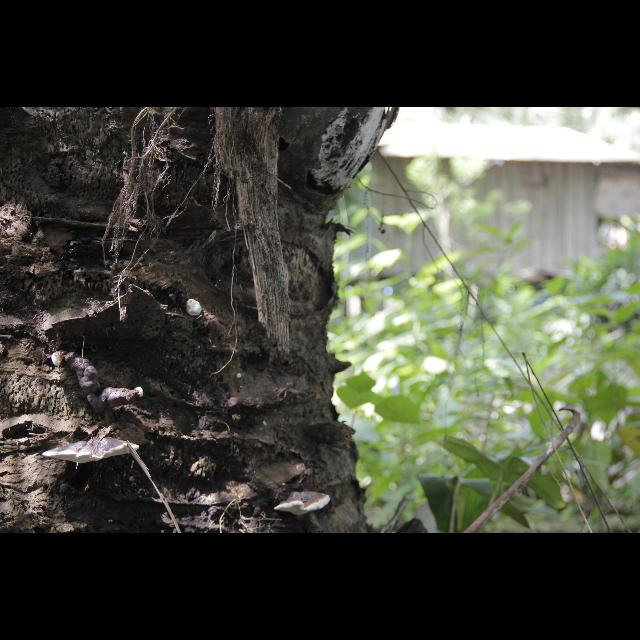ganoderma: (69, 353, 135, 414), (44, 437, 141, 465), (275, 492, 332, 518)
primordium: (187, 301, 204, 318), (53, 352, 70, 368), (136, 388, 145, 400), (238, 374, 243, 380)
